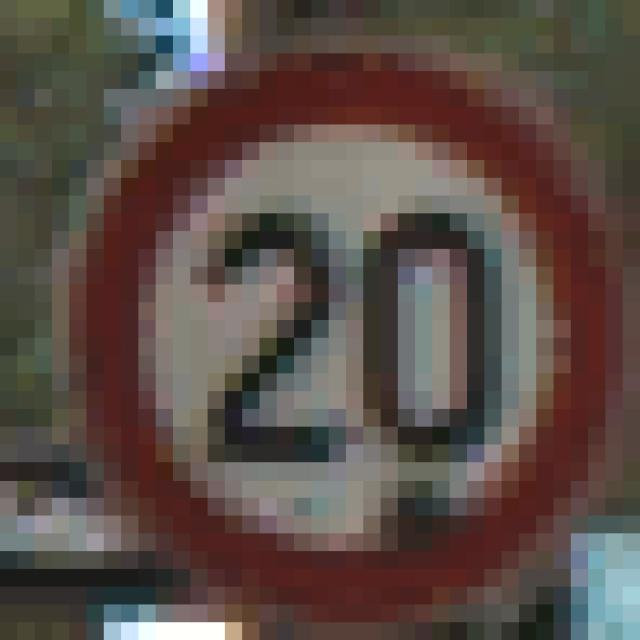forb_speed_over_20: (70, 51, 633, 629)
